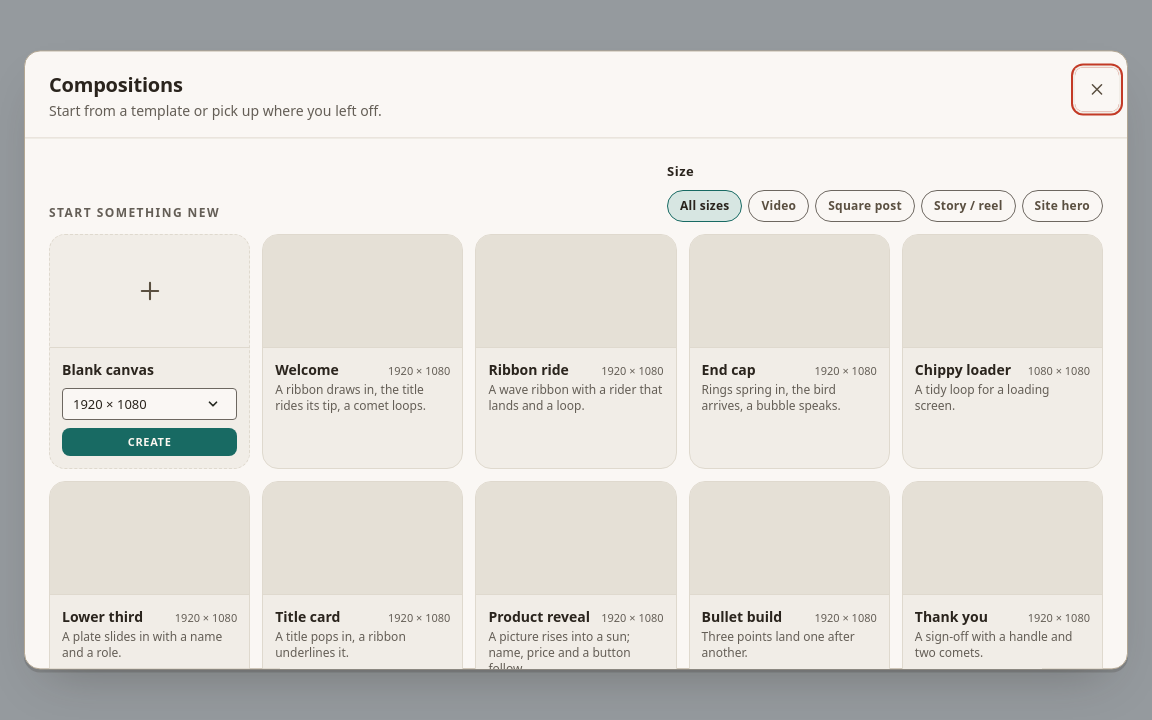
GalleryDialog templates › filters to the Square post frame and points the blank canvas at it
The width and height of the screenshot is (1152, 720).
Click the radio button labelled "Square post" at [865, 206], box [815, 190, 915, 222]
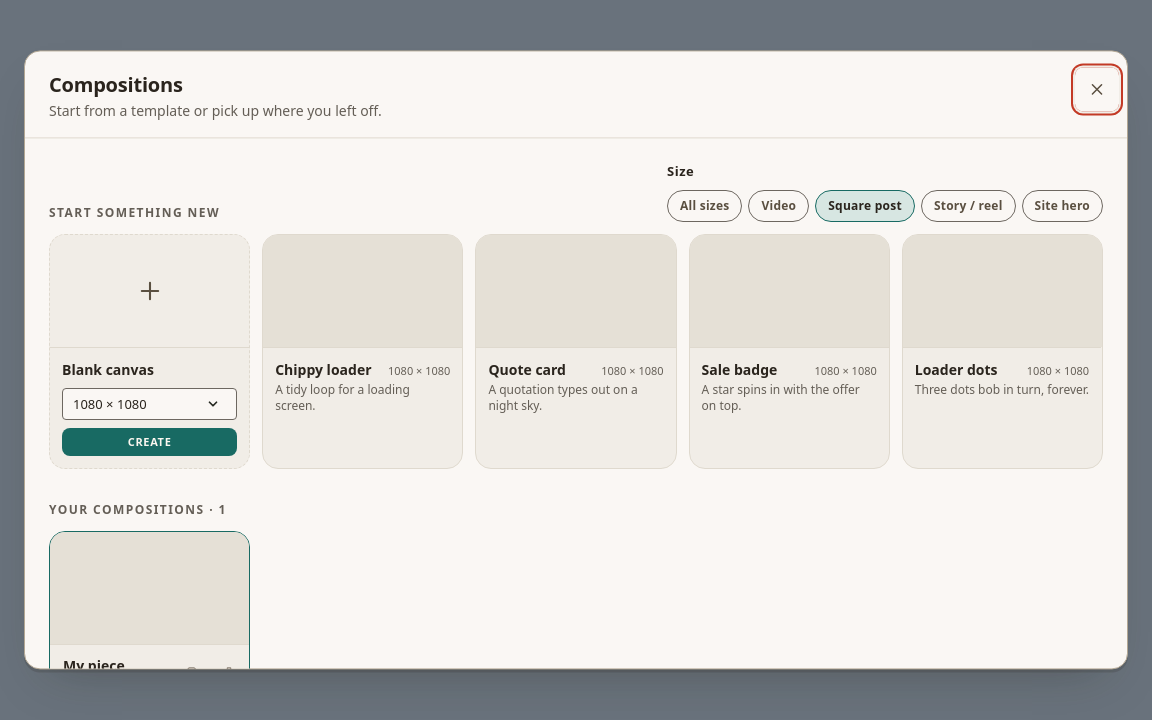
Check: the dropdown named "Frame size" shows "1080 × 1080", box [62, 388, 237, 420]
